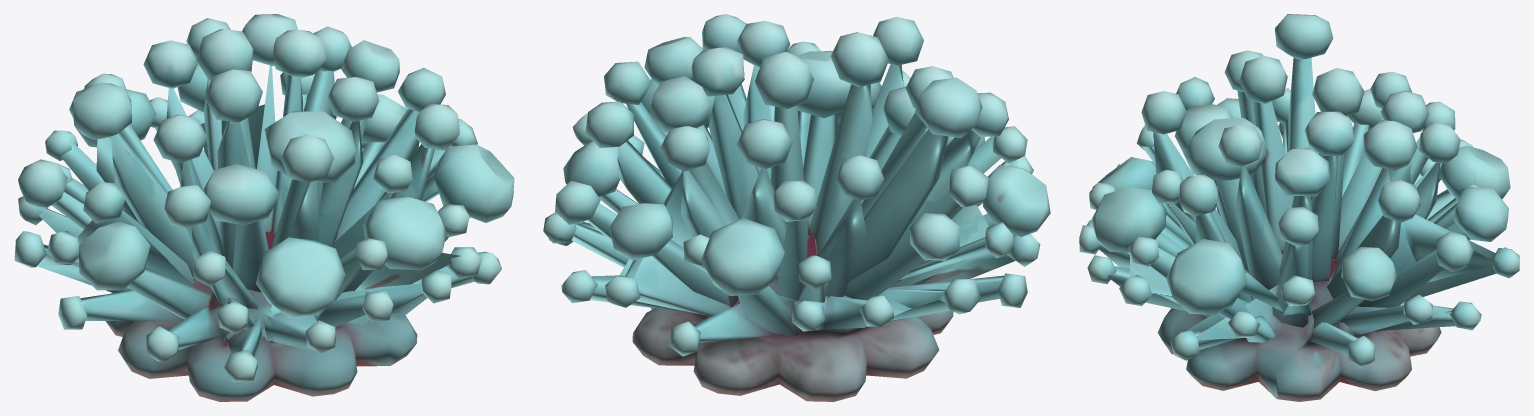
File: anemone.glb
The picture shows the model from 3 angles, left to right: view 1: azimuth 30°, elevation 25°; view 2: azimuth 150°, elevation 25°; view 3: azimuth 270°, elevation 25°; orthographic projection. The views are drawn at different scales.
Size of the model in its own units: 1 by 0.6823 by 1.
Materials: 1 (1 with a texture image).
